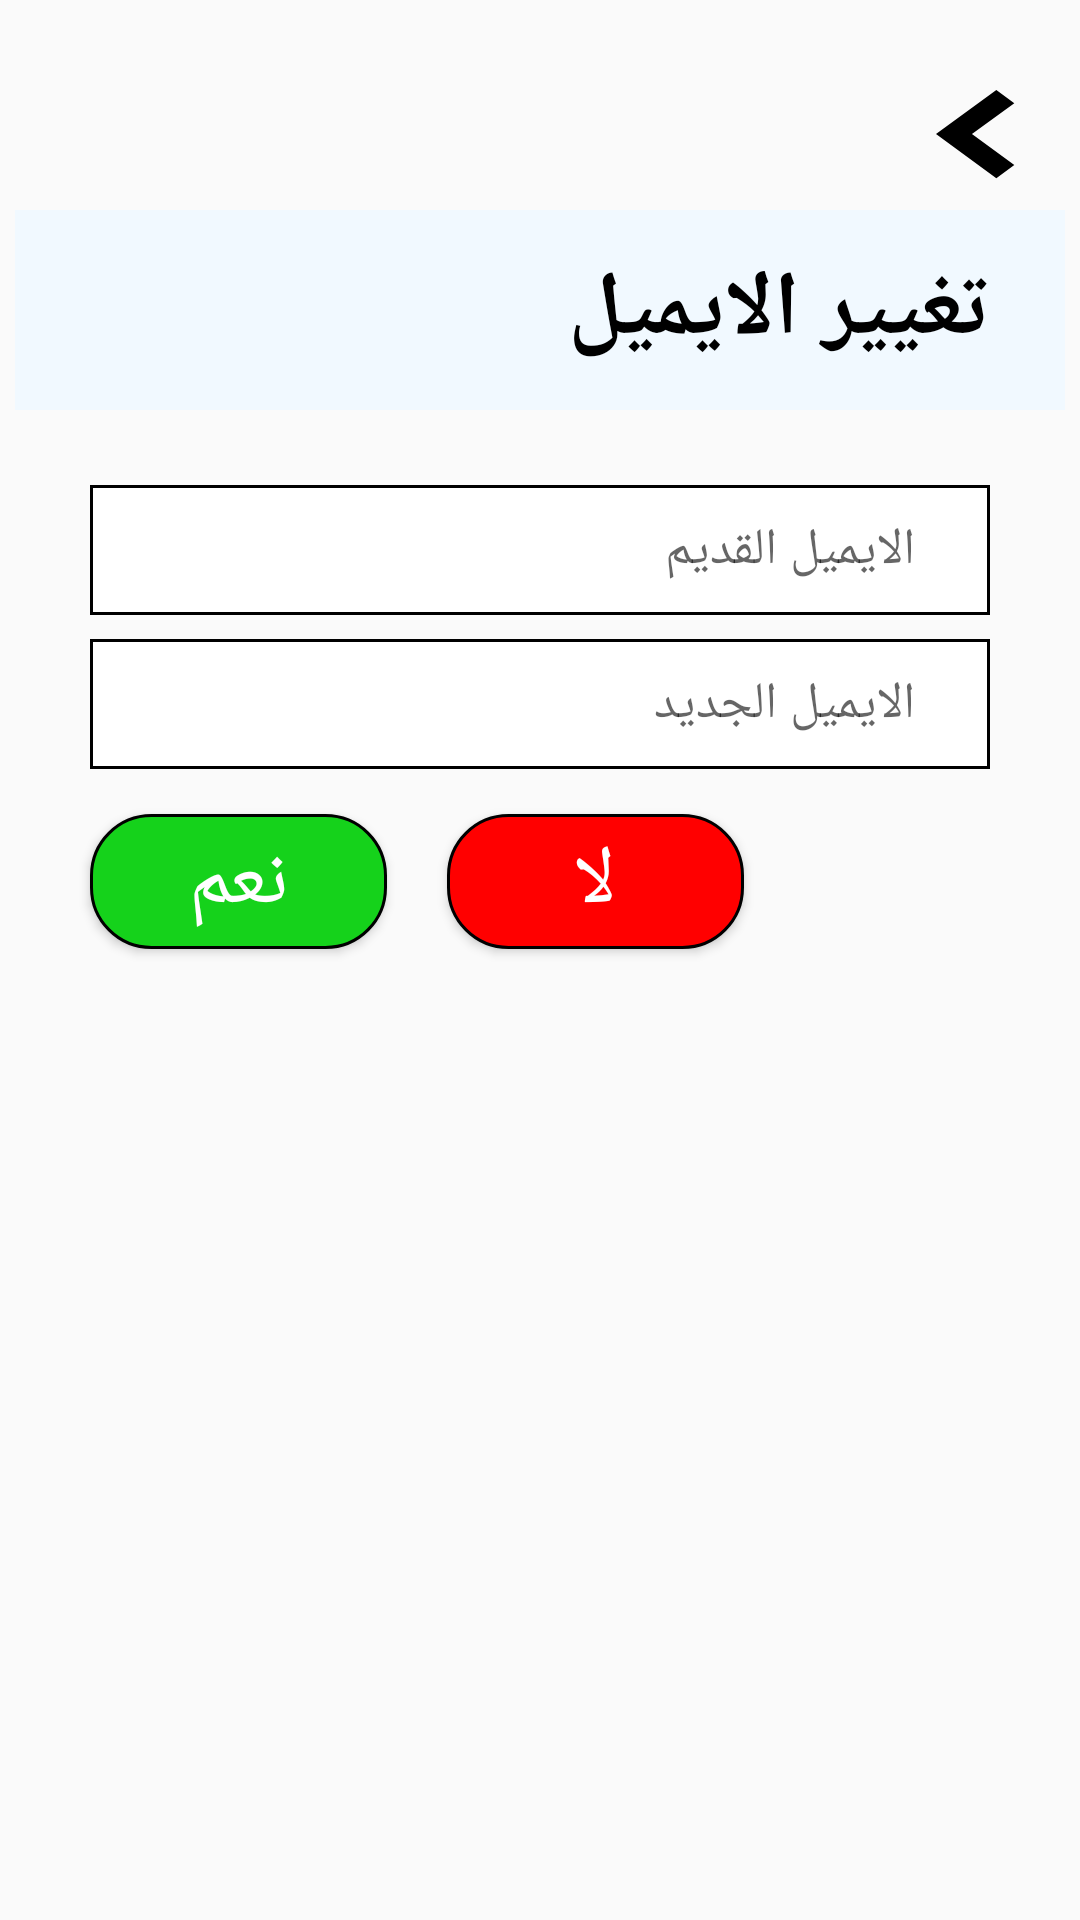

Icon click points for this 1080 × 1920 phone screenshot, format (x=x, y=y):
arrow left: (x=975, y=134)
